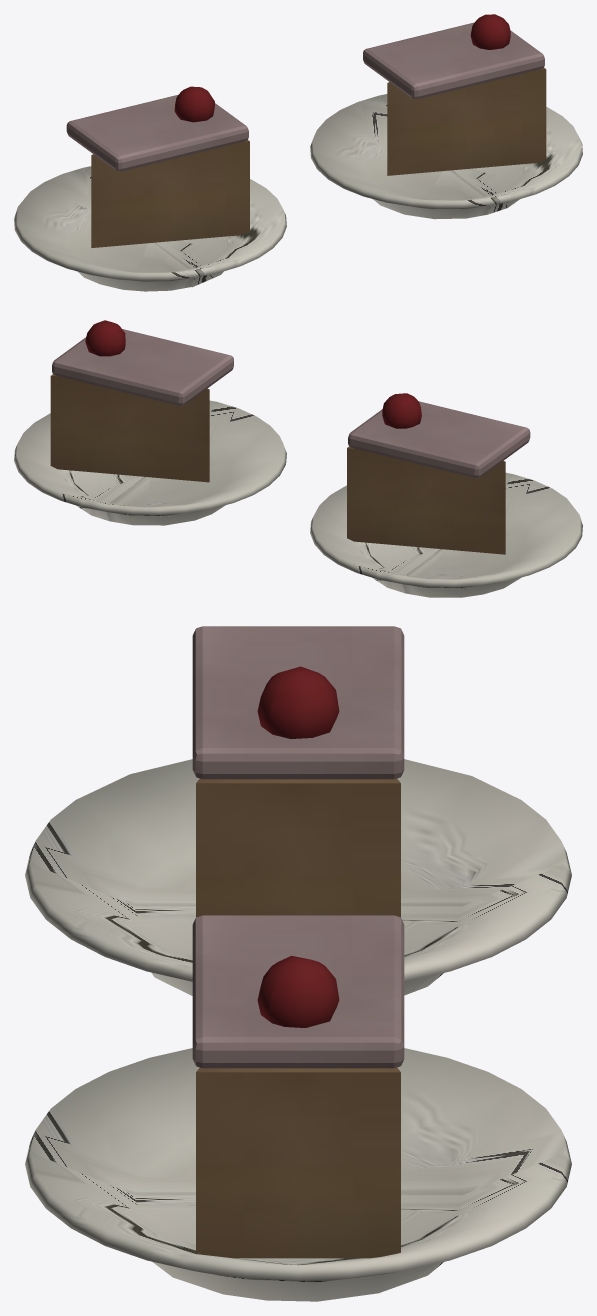
Rendered from FD07_CakeSlices.glb.
The picture shows the model from 3 angles, top to bottom: view 1: azimuth 30°, elevation 25°; view 2: azimuth 150°, elevation 25°; view 3: azimuth 270°, elevation 25°; orthographic projection. The views are drawn at different scales.
Visible parts, largest first — view 1: FD07_CakeSlices; view 2: FD07_CakeSlices; view 3: FD07_CakeSlices.
Part boxes in pixels (box(x1,y1,x2,y2)): FD07_CakeSlices: box(14, 14, 582, 291); FD07_CakeSlices: box(14, 320, 582, 597); FD07_CakeSlices: box(25, 626, 571, 1301).
Bounding box in the file's own units: 0.15 × 0.0425 × 0.0667.
Materials: 4 (4 with a texture image).
